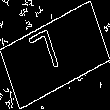L_SE: (36, 26, 74, 84)
